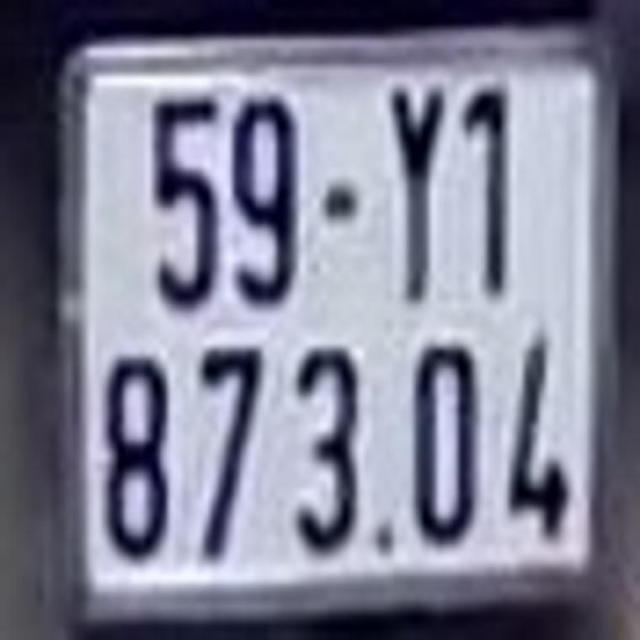0: (411, 340, 481, 543)
1: (460, 90, 512, 301)
3: (292, 344, 367, 558)
4: (506, 336, 578, 538)
5: (150, 96, 220, 302)
7: (196, 345, 270, 568)
8: (109, 356, 174, 558)
9: (226, 94, 300, 308)
Y: (388, 76, 447, 302)
